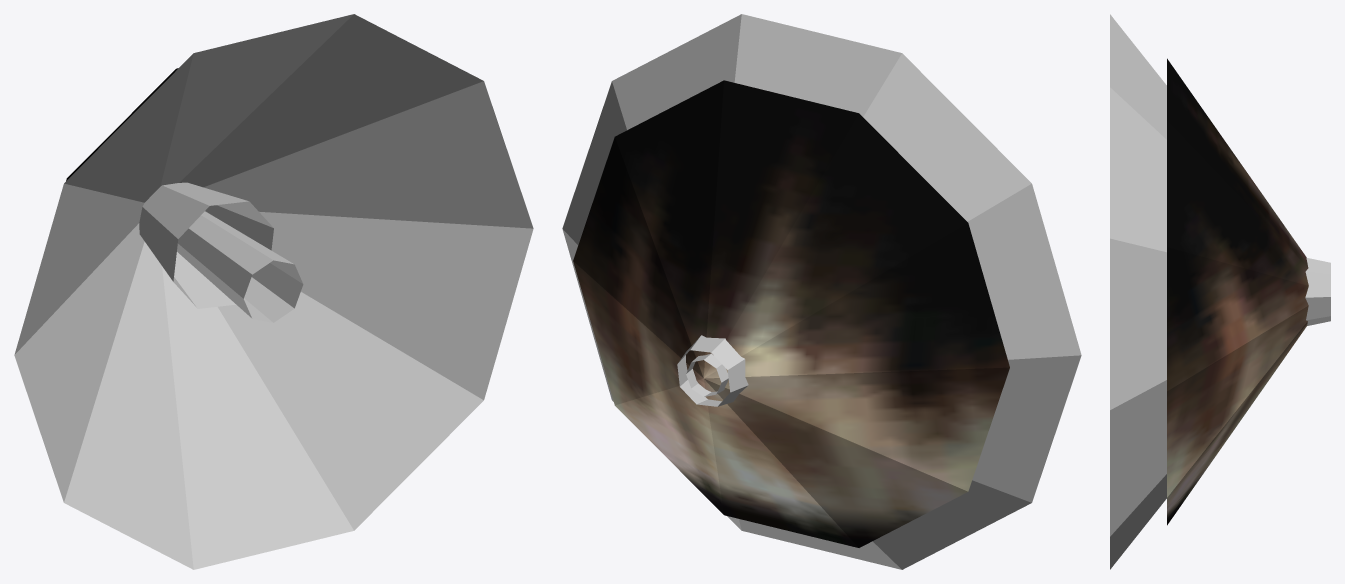
File: tx_common_banshen_dimian_1.obj
3 renders of one model, left to right at view 1: azimuth 30°, elevation 25°; view 2: azimuth 150°, elevation 25°; view 3: azimuth 270°, elevation 25°, orthographic. The views are drawn at different scales.
Visible parts, largest first — view 1: Cylinder01, Cylinder03, Cylinder04; view 2: Cylinder02, Cylinder01, Cylinder04, Cylinder03; view 3: Cylinder02, Cylinder01, Cylinder04.
Part boxes in pixels (x1,y1,x2,y2): Cylinder01: (14, 14, 533, 569); Cylinder03: (177, 211, 303, 322); Cylinder04: (139, 182, 273, 308); Cylinder02: (573, 80, 1009, 547); Cylinder01: (562, 14, 1081, 569); Cylinder04: (677, 335, 748, 406); Cylinder03: (686, 353, 728, 396); Cylinder02: (1167, 58, 1308, 525); Cylinder01: (1110, 14, 1166, 569); Cylinder04: (1305, 257, 1330, 325).
Bounding box in the file's own units: 36.47 × 34.69 × 14.38.
